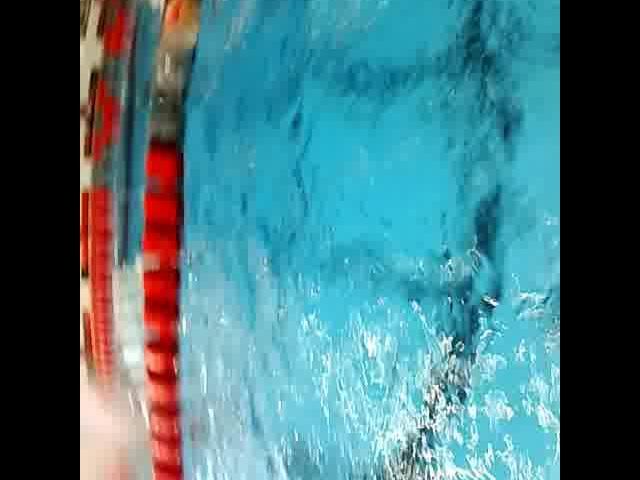Bottle: (146, 0, 197, 130)
